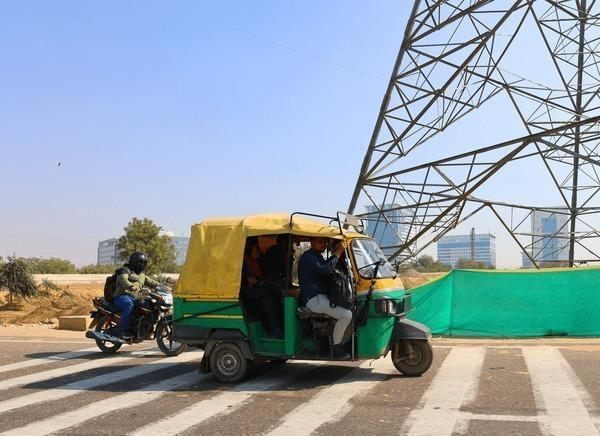keke: (165, 205, 439, 394)
